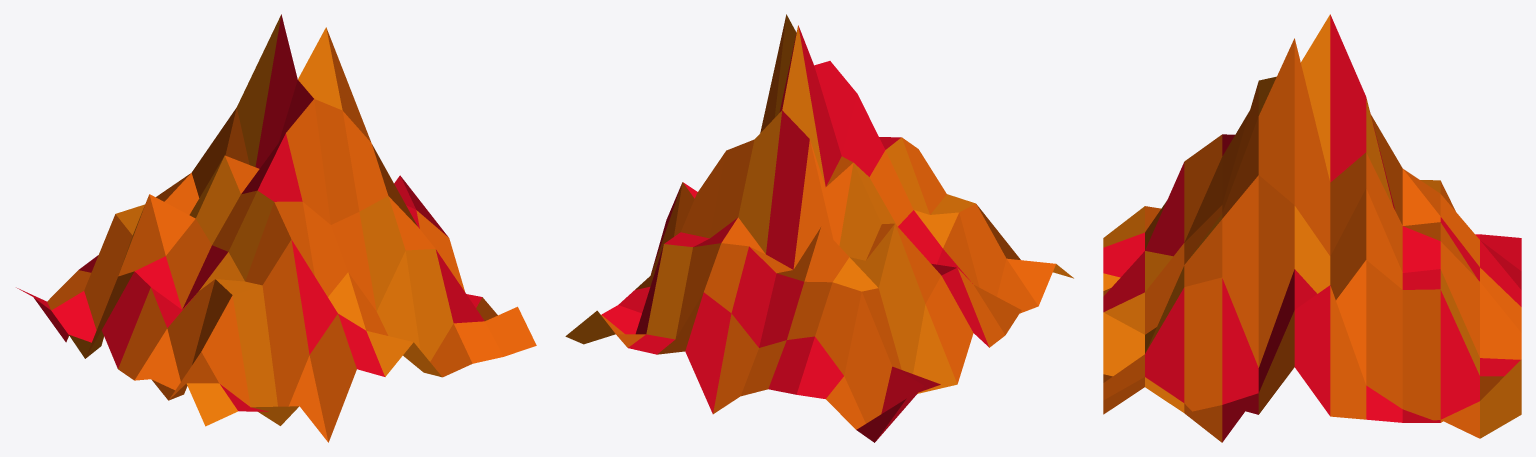
File: mountain2.fbx
3 views of the same model, side by side, from view 1: azimuth 30°, elevation 25°; view 2: azimuth 150°, elevation 25°; view 3: azimuth 270°, elevation 25° (orthographic). The views are drawn at different scales.
Parts seen in each view (by area): view 1: Plane.004; view 2: Plane.004; view 3: Plane.004.
Part boxes in pixels (<box>): Plane.004: <box>16,14,536,442</box>; Plane.004: <box>565,14,1073,442</box>; Plane.004: <box>1103,14,1521,442</box>.
Size of the model in its own units: 1000 by 989 by 1000.
